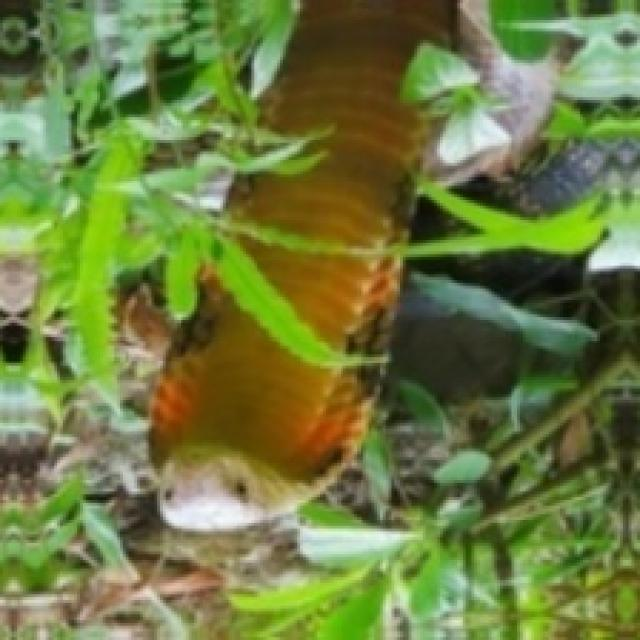king cobra: (229, 0, 451, 351), (151, 274, 377, 529), (440, 54, 551, 166)
